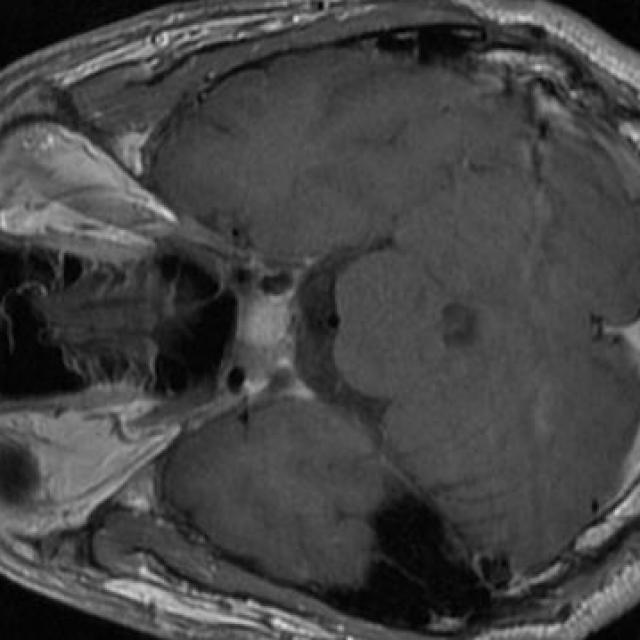pituitary: (235, 294, 294, 382)
